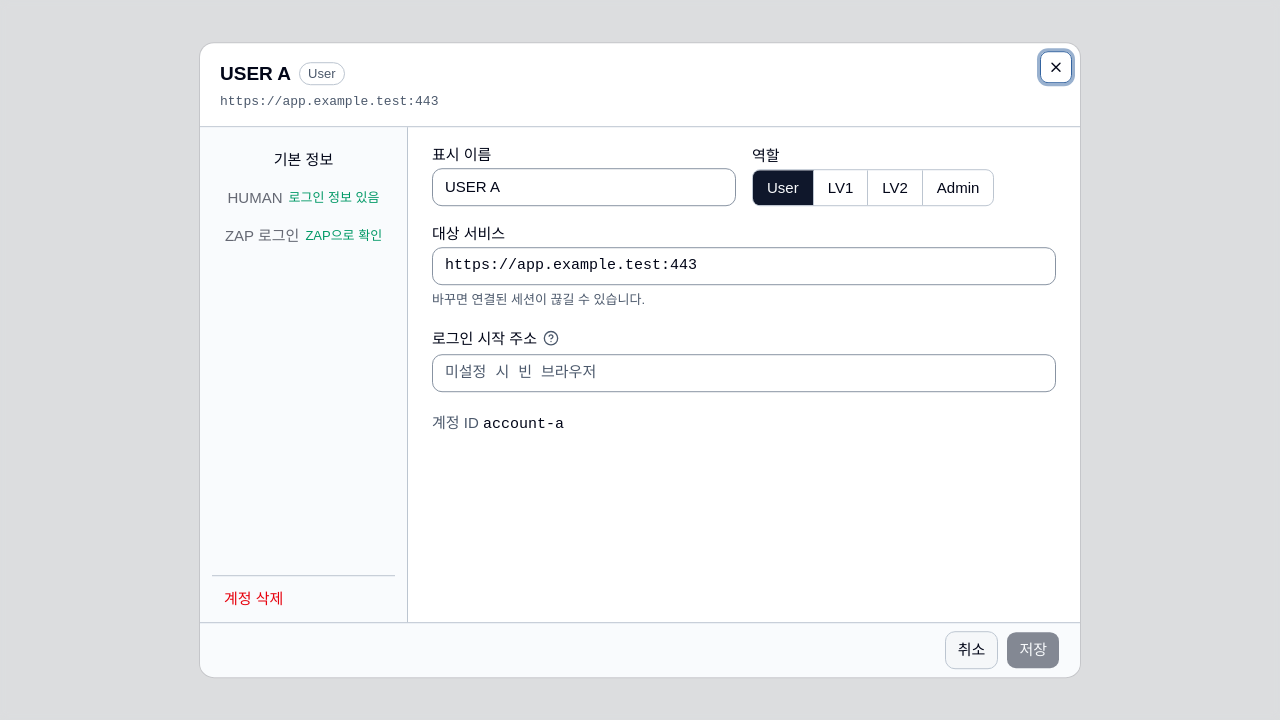
Test: rejects a pasted block without login headers
Step 1. Click the tab "HUMAN 로그인 정보 있음" → x=304, y=198, box [216,181,391,215]
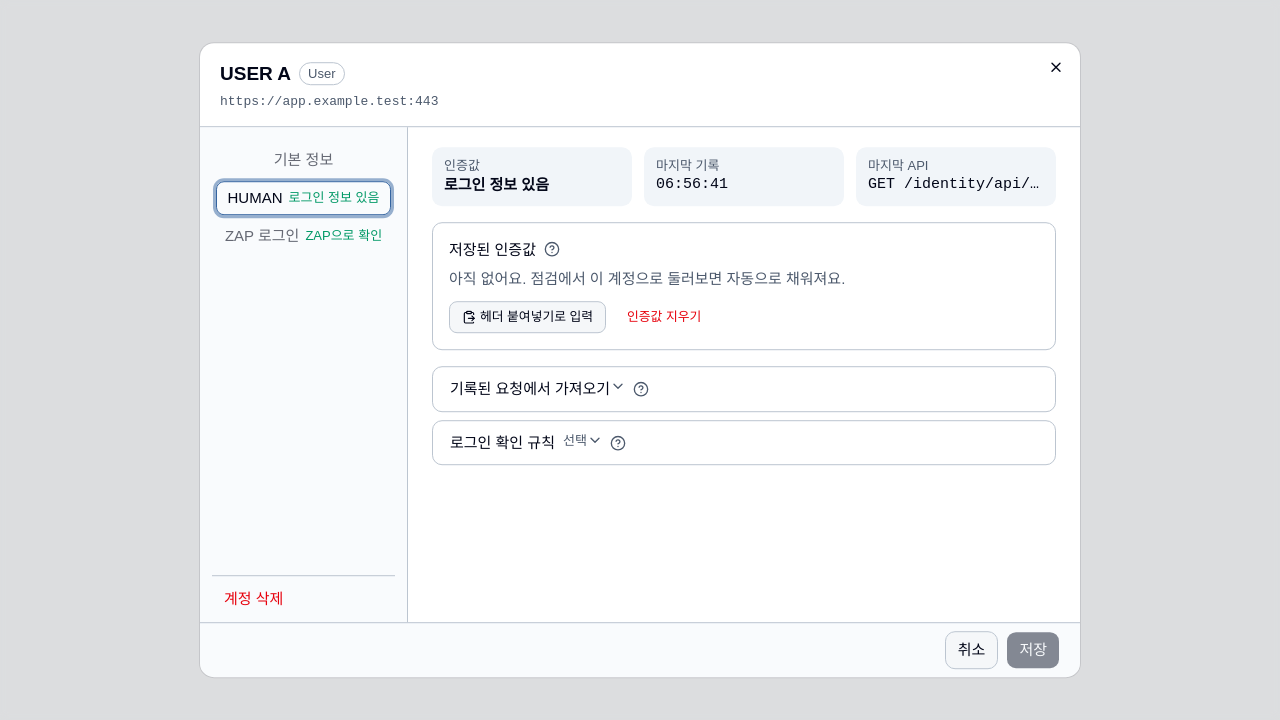
Step 2. Click the button "헤더 붙여넣기로 입력" → x=528, y=318, box [449,302,606,334]
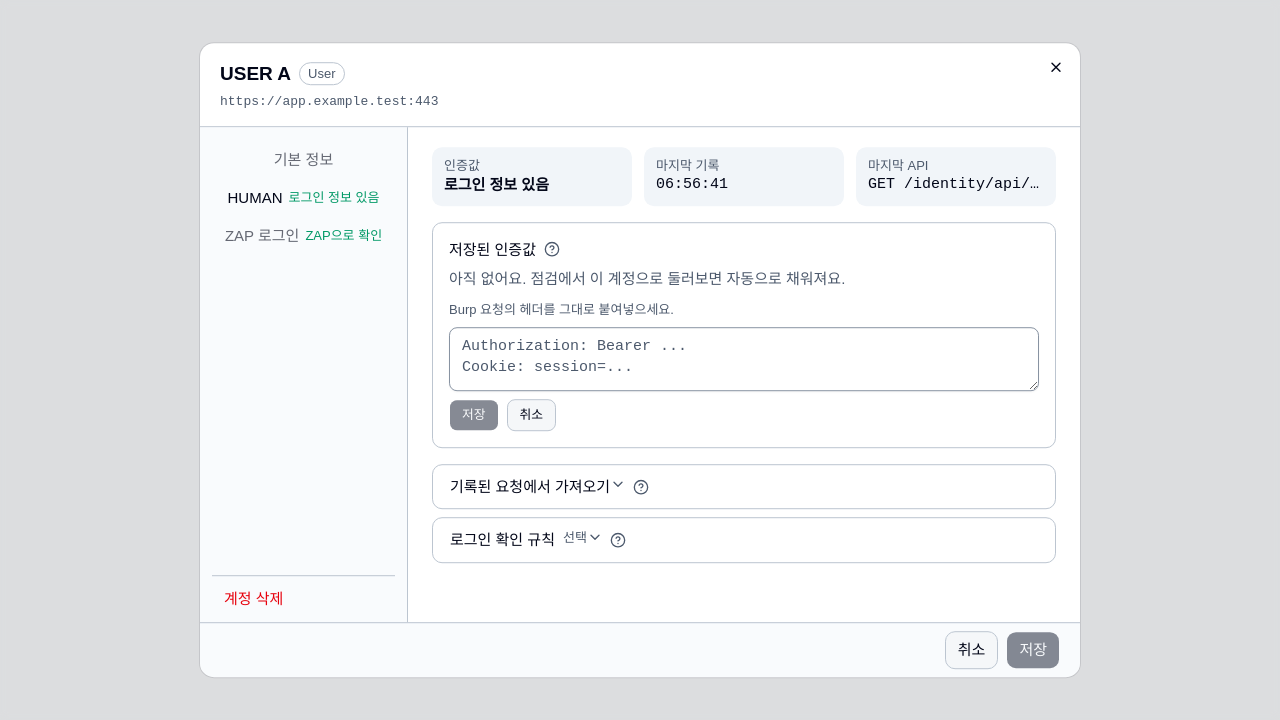
Step 3. Click the text box labelled "Burp 요청의 헤더를 그대로 붙여넣으세요." → x=744, y=359, box [449,327,1039,391]
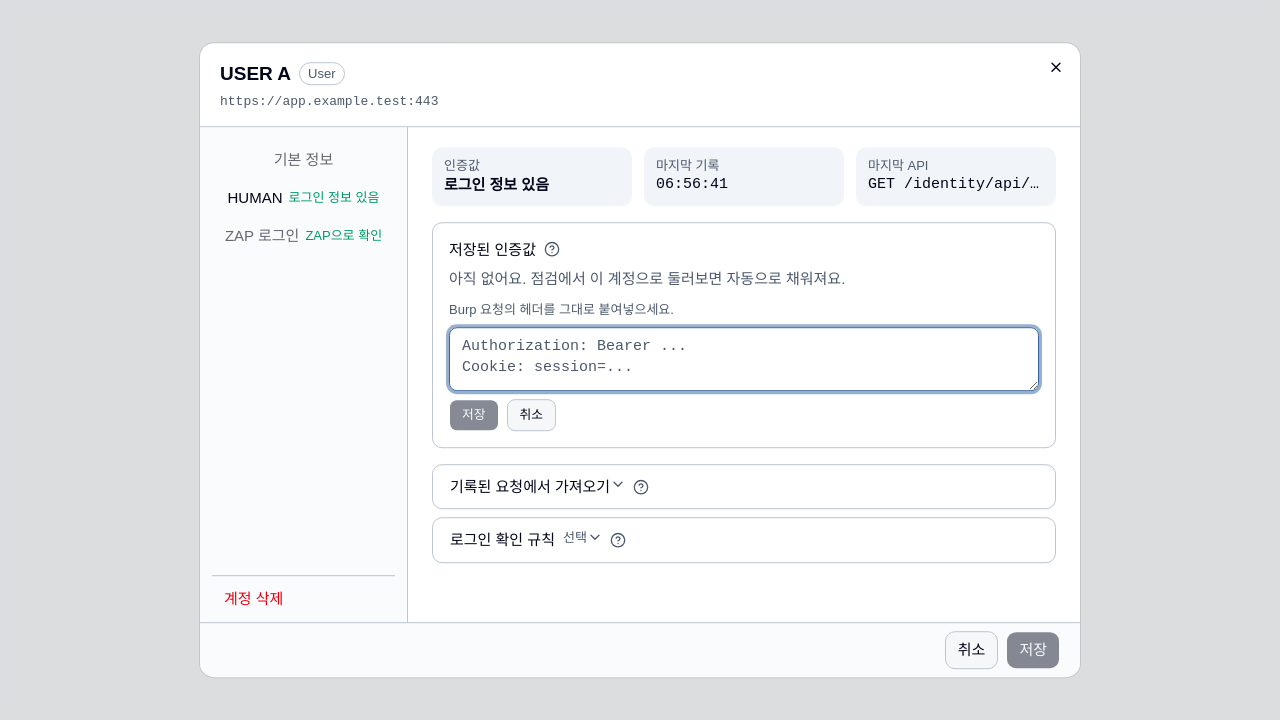
Step 4. Type keys "Accept: */*"
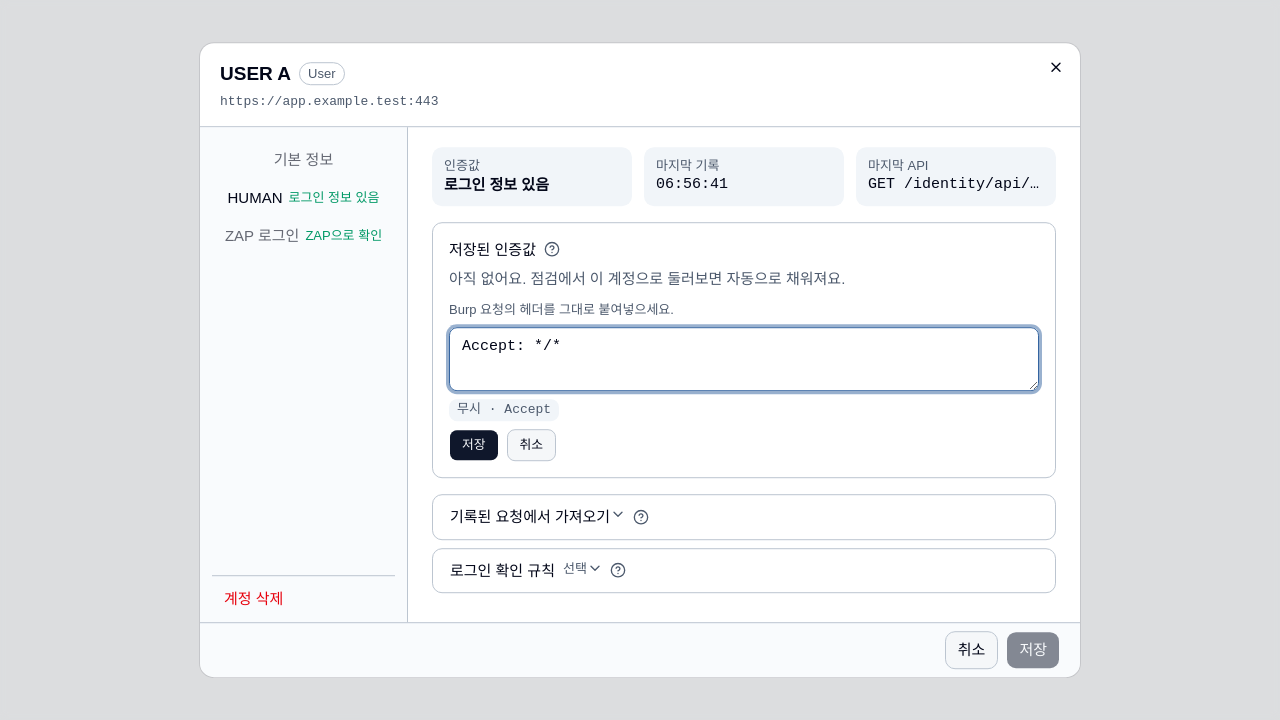
Step 5. Click the button "저장" below "무시" → x=474, y=446, box [449,430,498,462]
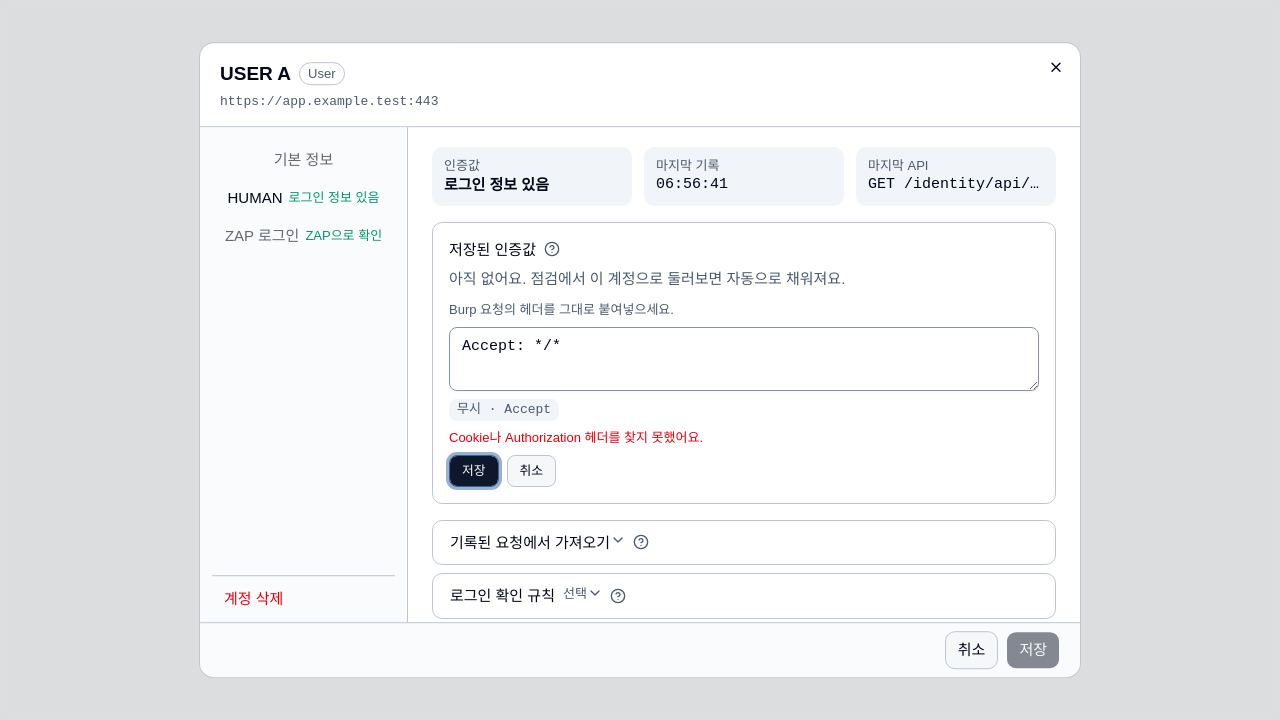
Expected: the message shows "Cookie나 Authorization", [449,431,703,446]
